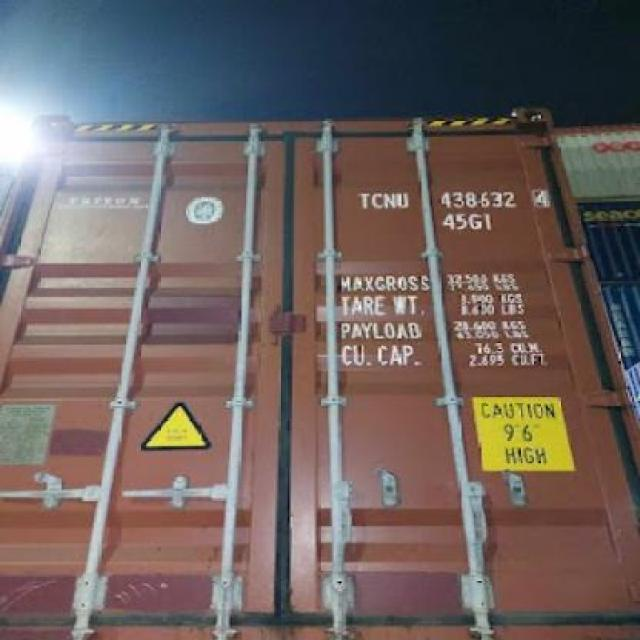ISO: (443, 211, 496, 233)
container_number: (360, 183, 552, 211)
